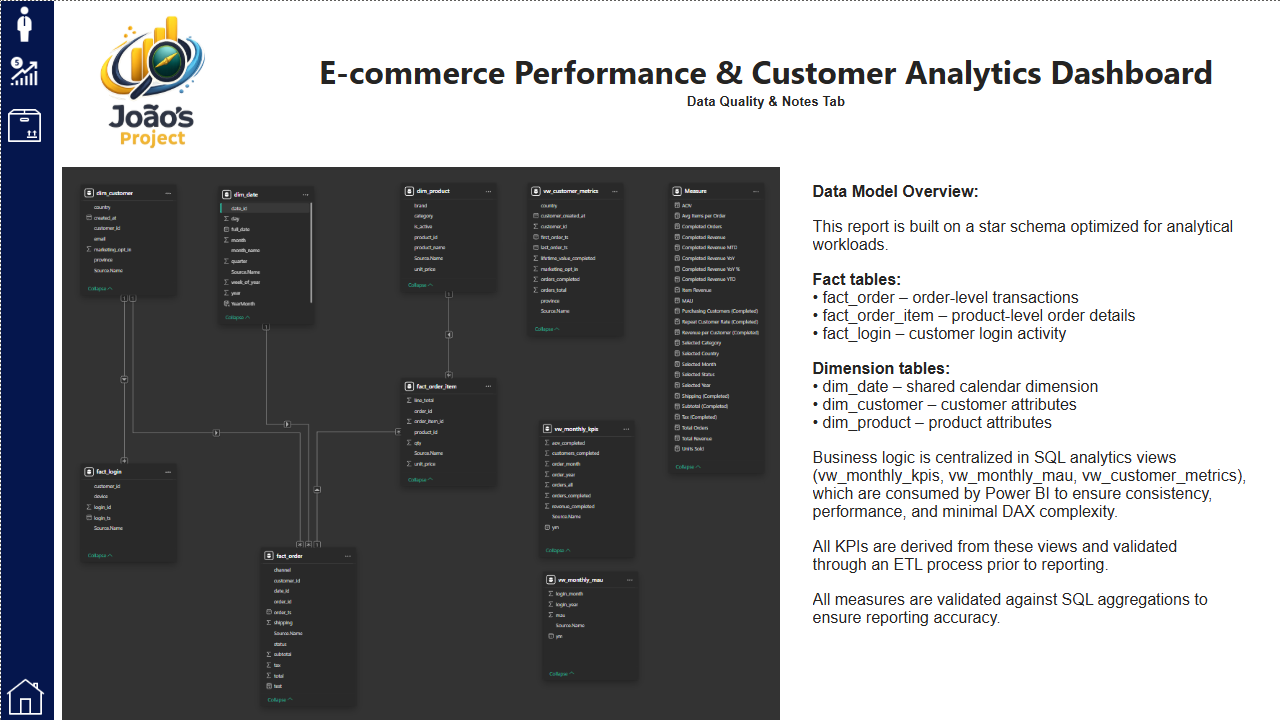

The page's visual inventory and layout, read from the dashboard file:
{"tool":"powerbi","page":{"name":"Data Quality & Notes","canvas":[1280,720],"ordinal":4},"visuals":[{"type":"textbox","title":"Data model Explanation Text Box","box":[806.7,176.7,455.6,495.6],"z":0},{"type":"image","title":"Logo","box":[45.4,0,211.3,165.9],"z":1000},{"type":"shape","title":"Side Bar","box":[0,0,53.3,720],"z":2000},{"type":"textbox","title":"Report Name Text Box","box":[313.3,43.3,904.4,80],"z":3000},{"type":"actionButton","title":"Executive Overview Tab Button","box":[0,0,52.2,46.7],"z":4000},{"type":"actionButton","title":"Sales Trends Tab Button","box":[0,46.7,52.2,46.7],"z":5000},{"type":"actionButton","title":"Product Performance Tab Button","box":[0,101.1,52.2,46.7],"z":6000},{"type":"actionButton","title":"Home Page Tab Button","box":[1.1,673.3,52.2,46.7],"z":7000},{"type":"image","box":[53.4,165.7,735.1,553.8],"z":8000}]}

Visuals, with their boxes in screenshot pixels (x1, y1, x2, y2), scaled from the page's 1280x720 canvas onto the 1281x720 screenshot:
"Data model Explanation Text Box" textbox: 807, 177, 1263, 672
"Logo" image: 45, 0, 257, 166
"Side Bar" shape: 0, 0, 53, 719
"Report Name Text Box" textbox: 314, 43, 1219, 123
"Executive Overview Tab Button" actionButton: 0, 0, 52, 47
"Sales Trends Tab Button" actionButton: 0, 47, 52, 93
"Product Performance Tab Button" actionButton: 0, 101, 52, 148
"Home Page Tab Button" actionButton: 1, 673, 53, 719
image: 53, 166, 789, 719
